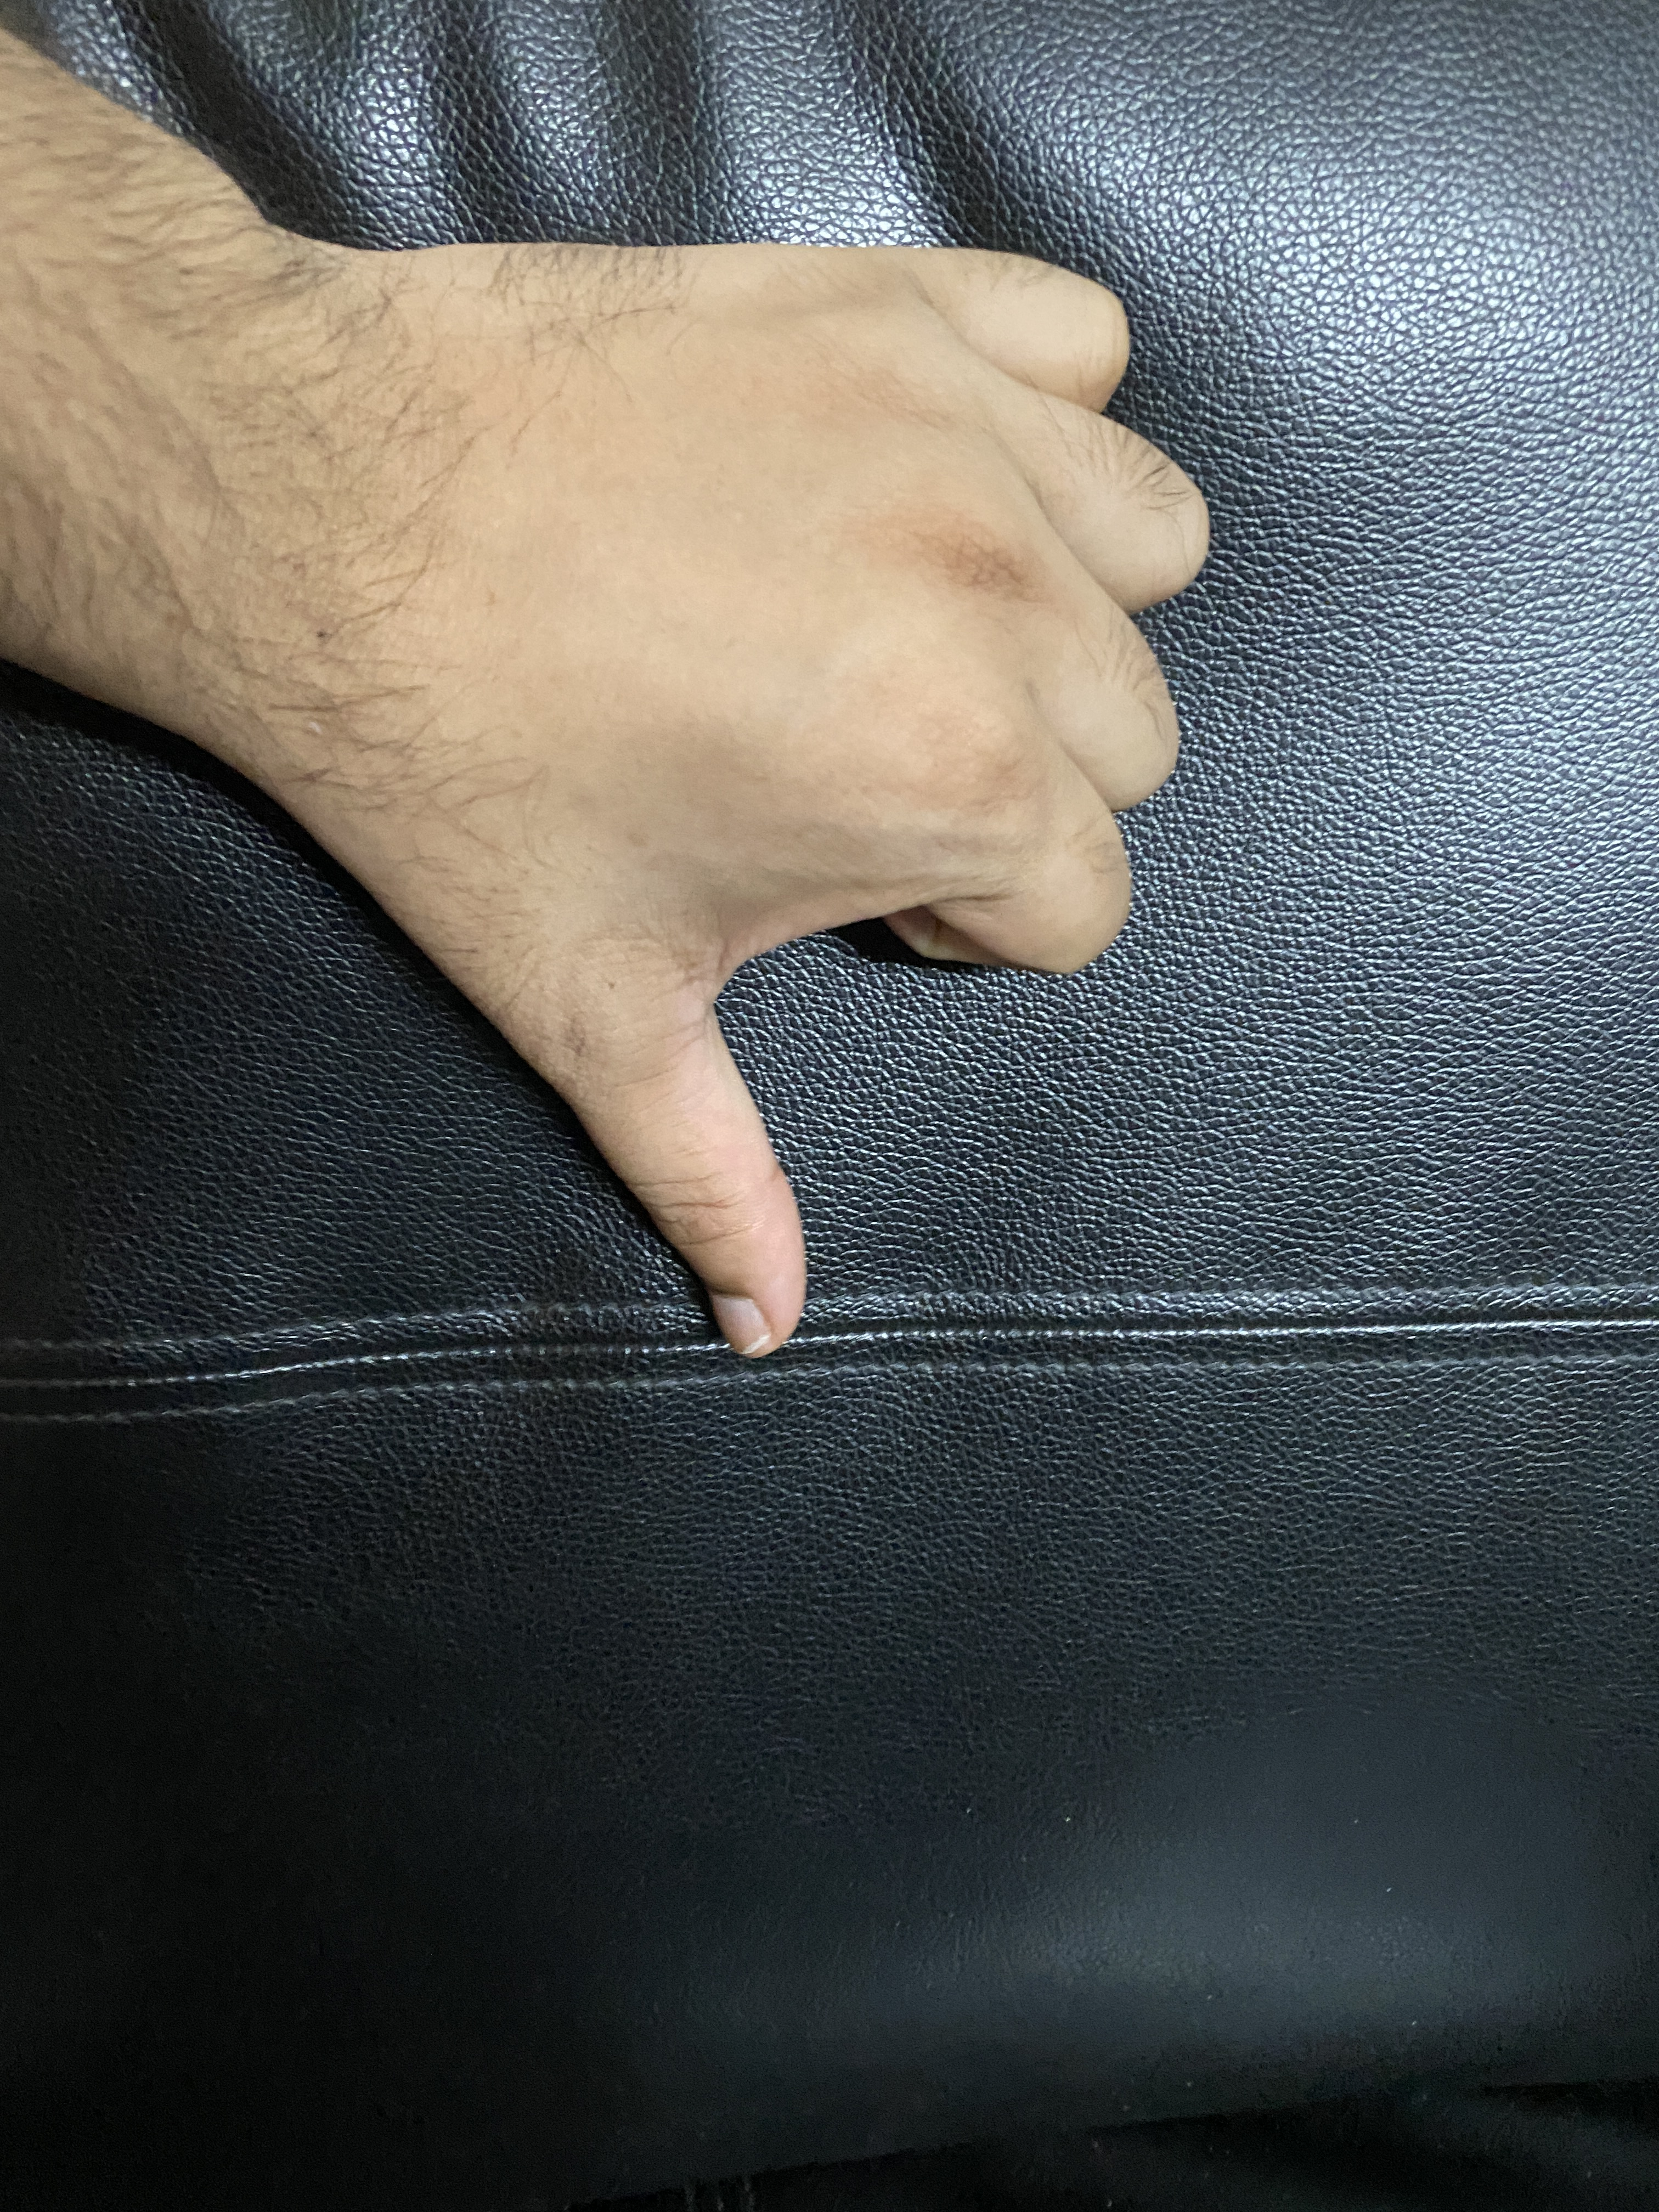down: (28, 21, 1260, 1447)
